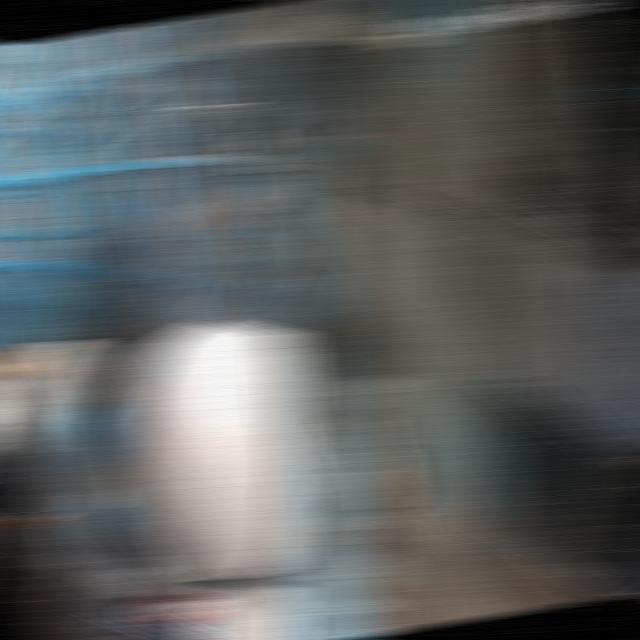cement_mixer_truck: (0, 284, 453, 639)
swing_chute: (260, 123, 387, 327)
